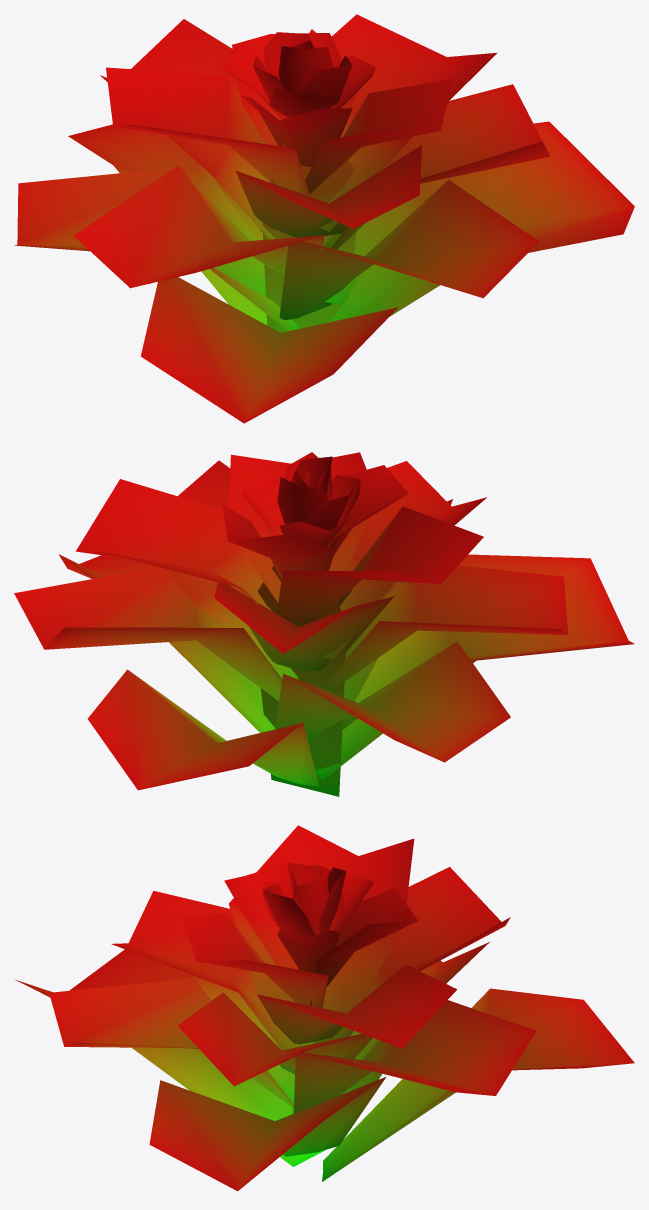
The model's file is White Ornamental Kale_LOD5_Var6_ue3ldcgja.fbx.
3 renders of one model, top to bottom at view 1: azimuth 30°, elevation 25°; view 2: azimuth 150°, elevation 25°; view 3: azimuth 270°, elevation 25°, orthographic. The views are drawn at different scales.
Visible parts, largest first — view 1: _f30b_Var6_LOD5; view 2: _f30b_Var6_LOD5; view 3: _f30b_Var6_LOD5.
Boxes of the visible parts, x1,y1,x2,y2 form: _f30b_Var6_LOD5: [14, 14, 634, 423]; _f30b_Var6_LOD5: [14, 452, 634, 796]; _f30b_Var6_LOD5: [15, 825, 634, 1191].
Bounding box in the file's own units: 58.16 × 34.8 × 62.85.
